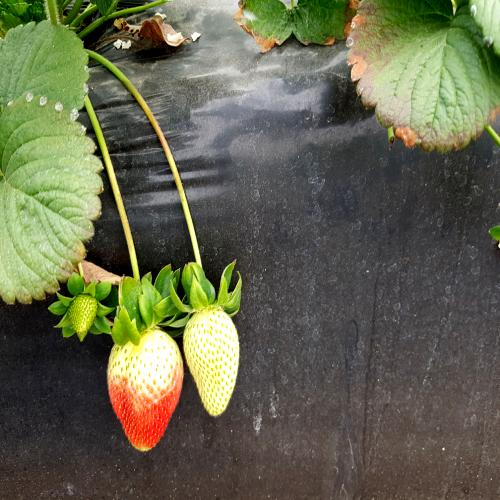partially-ripe: (104, 322, 186, 465)
unripe: (182, 294, 256, 426)
